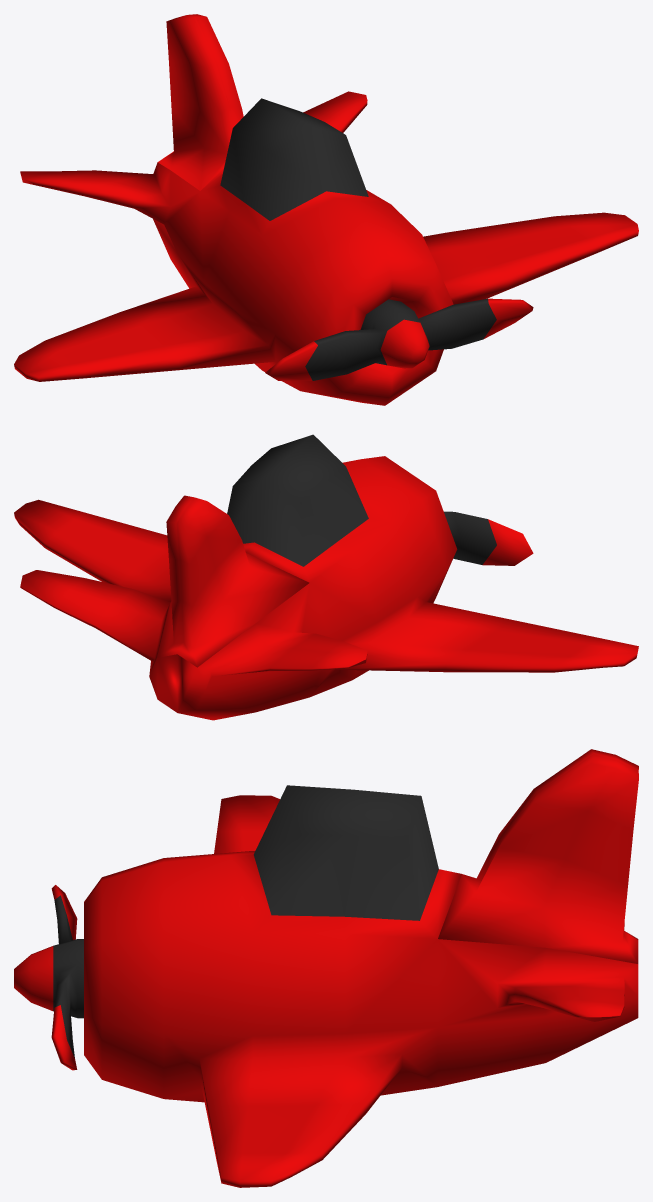
The model's file is enemy2.gltf.
The picture shows the model from 3 angles, top to bottom: view 1: azimuth 30°, elevation 25°; view 2: azimuth 150°, elevation 25°; view 3: azimuth 270°, elevation 25°; orthographic projection. The views are drawn at different scales.
Parts seen in each view (by area): view 1: Cylinder, Cylinder.001; view 2: Cylinder, Cylinder.001; view 3: Cylinder, Cylinder.001.
Part boxes in pixels (x1,y1,x2,y2): Cylinder: (14,14,638,405); Cylinder.001: (265,298,533,380); Cylinder: (14,434,638,720); Cylinder.001: (444,511,533,565); Cylinder: (84,749,638,1187); Cylinder.001: (14,885,83,1070).
Size of the model in its own units: 6.72 by 2.82 by 4.6.
